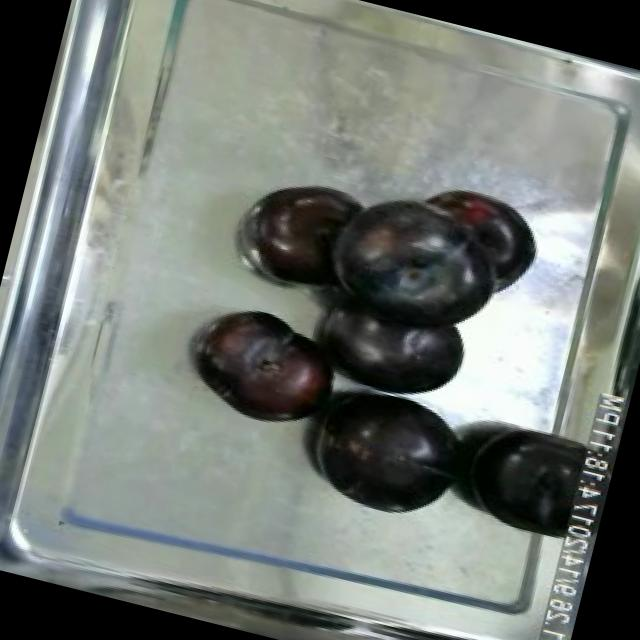Fruit: (294, 372, 488, 536), (175, 290, 356, 448), (234, 167, 367, 304)
